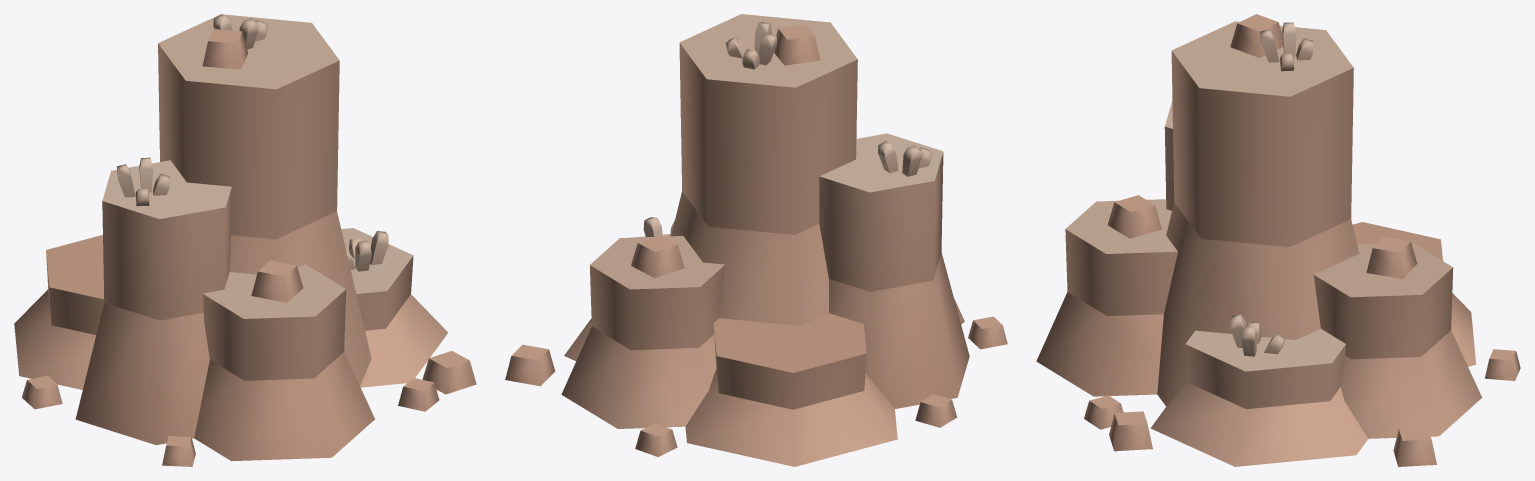
File: rocks-sand-b.glb
3 views of the same model, side by side, from view 1: azimuth 30°, elevation 25°; view 2: azimuth 150°, elevation 25°; view 3: azimuth 270°, elevation 25° (orthographic). The views are drawn at different scales.
Parts seen in each view (by area): view 1: rocks-sand-b; view 2: rocks-sand-b; view 3: rocks-sand-b.
Boxes of the visible parts, left/top/right/bottom form: rocks-sand-b: left=14, top=14, right=476, bottom=466; rocks-sand-b: left=505, top=14, right=1007, bottom=466; rocks-sand-b: left=1036, top=14, right=1520, bottom=466.
Size of the model in its own units: 4.38 by 3.71 by 4.71.
